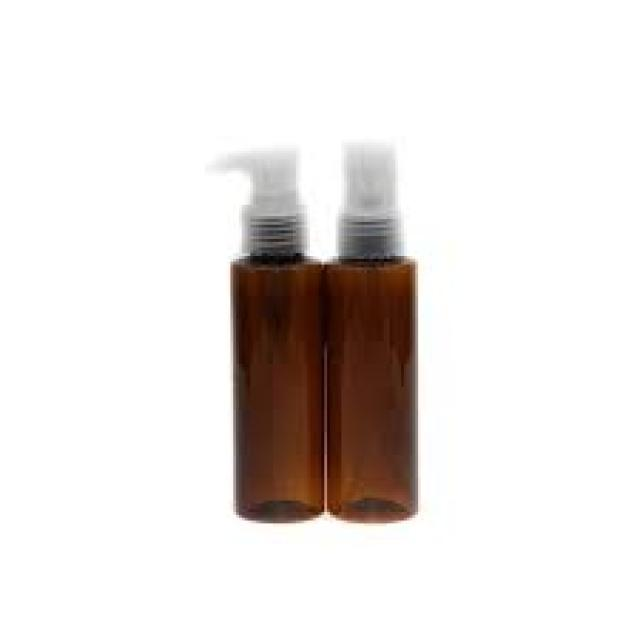glass: (322, 256, 416, 521), (231, 253, 322, 521)
plastic: (214, 148, 305, 253), (336, 142, 398, 265)
